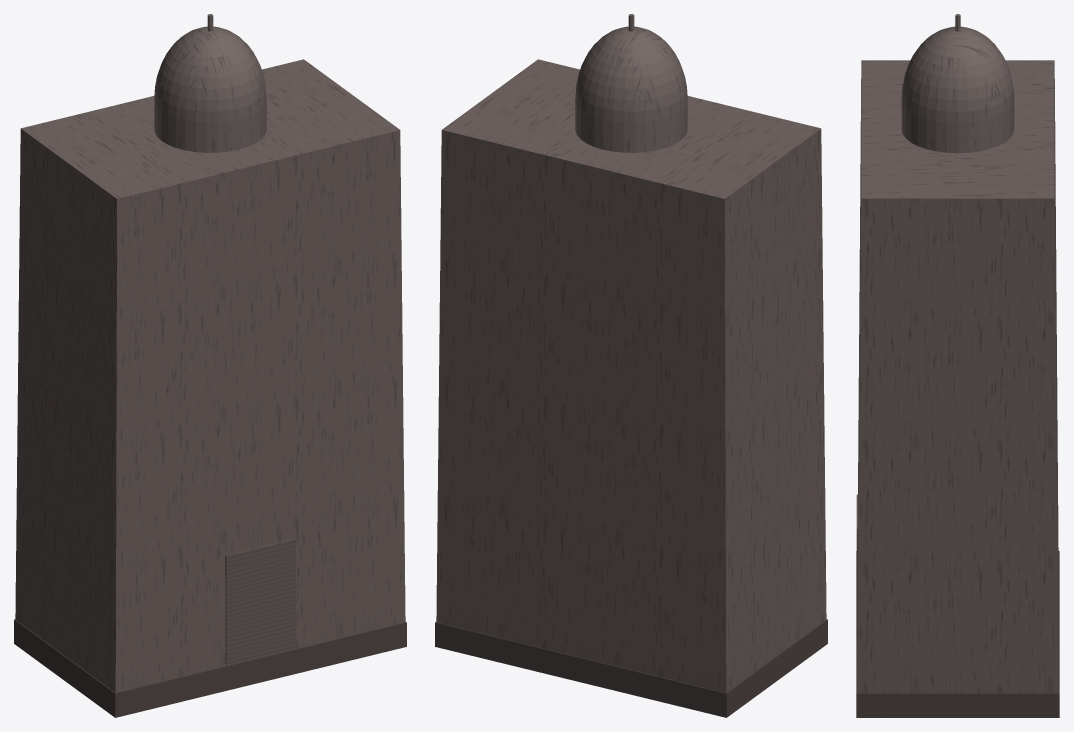
File: SM_Souq_Warehouse_W5D30_Dome.fbx
3 views of the same model, side by side, from view 1: azimuth 30°, elevation 25°; view 2: azimuth 150°, elevation 25°; view 3: azimuth 270°, elevation 25° (orthographic).
Parts seen in each view (by area): view 1: SM_Souq_Warehouse_W5D30_Dome; view 2: SM_Souq_Warehouse_W5D30_Dome; view 3: SM_Souq_Warehouse_W5D30_Dome.
Boxes of the visible parts, x1=… form: SM_Souq_Warehouse_W5D30_Dome: x1=14, y1=14, x2=406, y2=717; SM_Souq_Warehouse_W5D30_Dome: x1=435, y1=14, x2=827, y2=717; SM_Souq_Warehouse_W5D30_Dome: x1=856, y1=14, x2=1059, y2=717.
Size of the model in its own units: 502 by 1038 by 302.
Materials: 4 (4 with a texture image).
